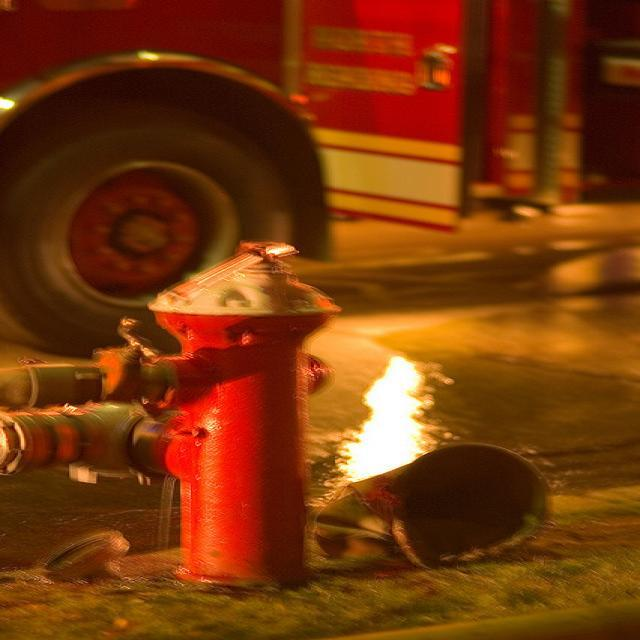fire_hydrant: (146, 259, 342, 588)
